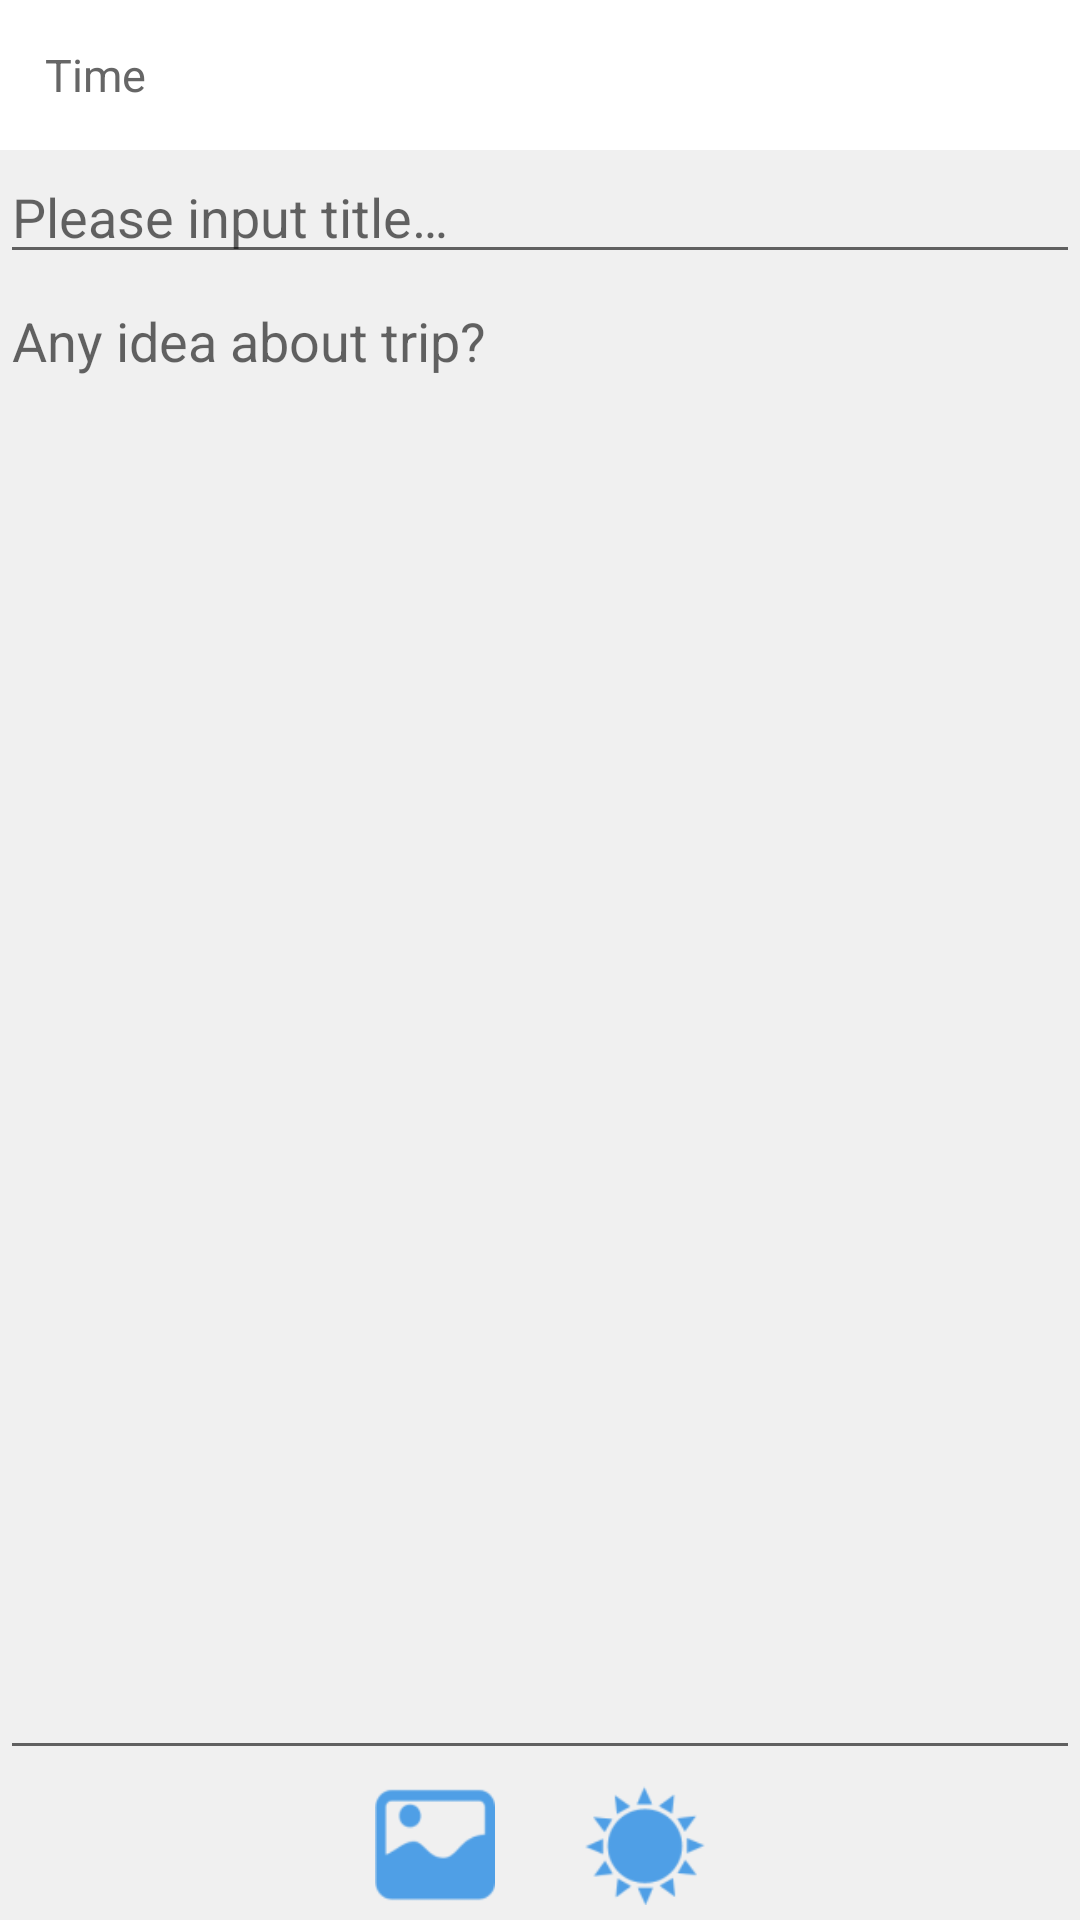

Icons on this 1080px×1920px Android screen, each with the point to tap as point (x, y):
photo: point (435, 1844)
weather sunny: point (645, 1846)
